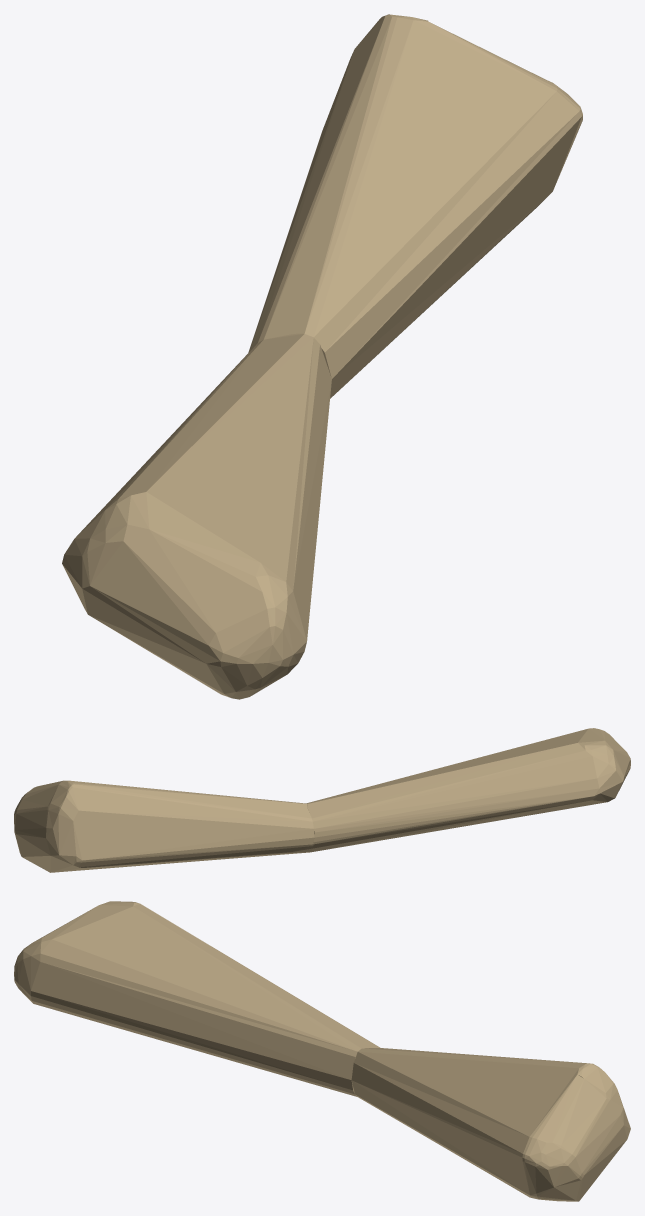
The model's file is bone_collider.fbx.
The picture shows the model from 3 angles, top to bottom: view 1: azimuth 30°, elevation 25°; view 2: azimuth 150°, elevation 25°; view 3: azimuth 270°, elevation 25°; orthographic projection. The views are drawn at different scales.
Parts seen in each view (by area): view 1: FEMUR.001, FEMUR; view 2: FEMUR.001, FEMUR; view 3: FEMUR, FEMUR.001.
Boxes of the visible parts, <box> form: FEMUR.001: <box>248,14,582,398</box>; FEMUR: <box>62,333,331,699</box>; FEMUR.001: <box>14,780,314,872</box>; FEMUR: <box>306,728,630,852</box>; FEMUR: <box>14,901,380,1096</box>; FEMUR.001: <box>351,1048,630,1201</box>.
Bounding box in the file's own units: 520 × 117 × 547.
